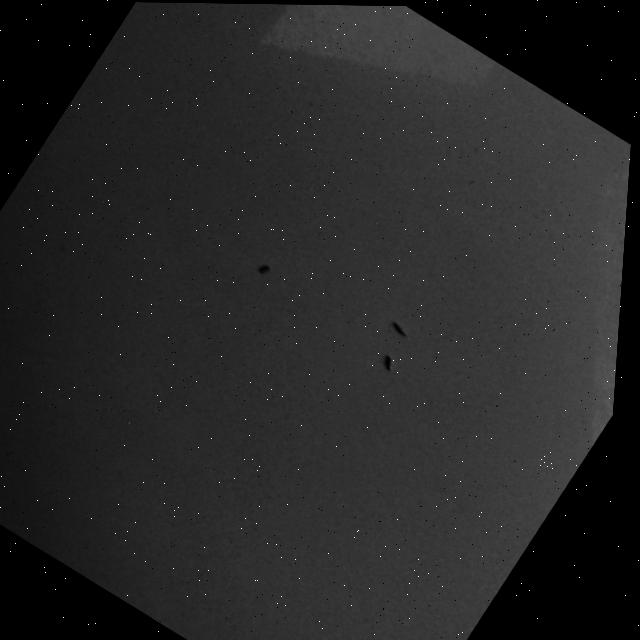Wereng: (386, 319, 411, 339), (377, 352, 398, 375), (253, 260, 275, 280)
